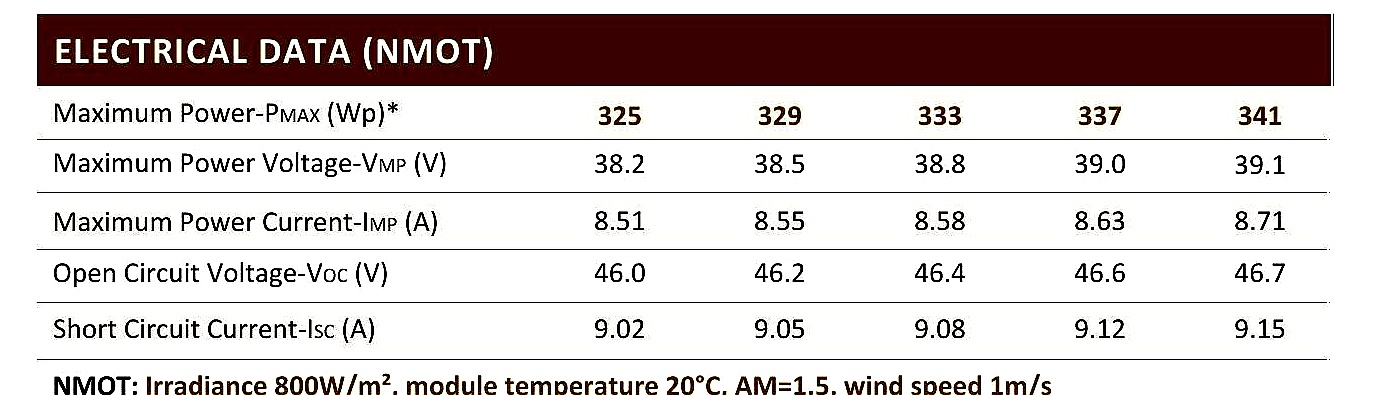table: (26, 5, 1341, 367)
table column: (37, 13, 537, 358), (705, 13, 874, 358), (537, 11, 704, 357), (878, 12, 1041, 360), (1044, 14, 1193, 359), (1195, 13, 1330, 361)
table name: (37, 11, 1333, 83)
table row: (39, 16, 1327, 83), (36, 305, 1328, 358), (35, 195, 1326, 247), (36, 140, 1327, 191), (38, 86, 1326, 136), (37, 252, 1326, 300)
table row header: (40, 13, 538, 361)
table spanning cell: (36, 13, 1330, 84)
